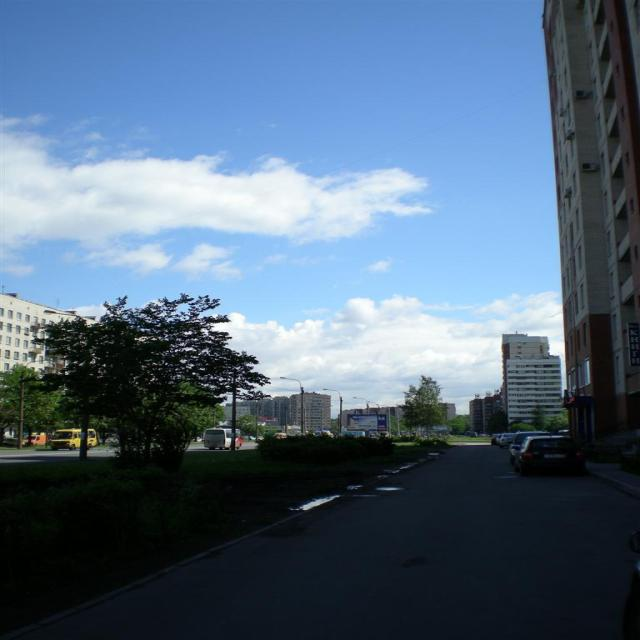car: (514, 430, 598, 472)
